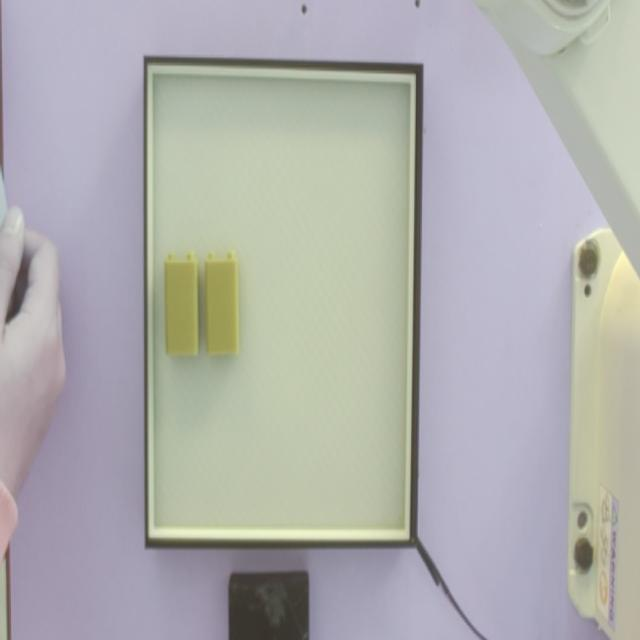bateria: (166, 254, 199, 356), (205, 253, 238, 355)
mesa: (144, 56, 423, 548)
